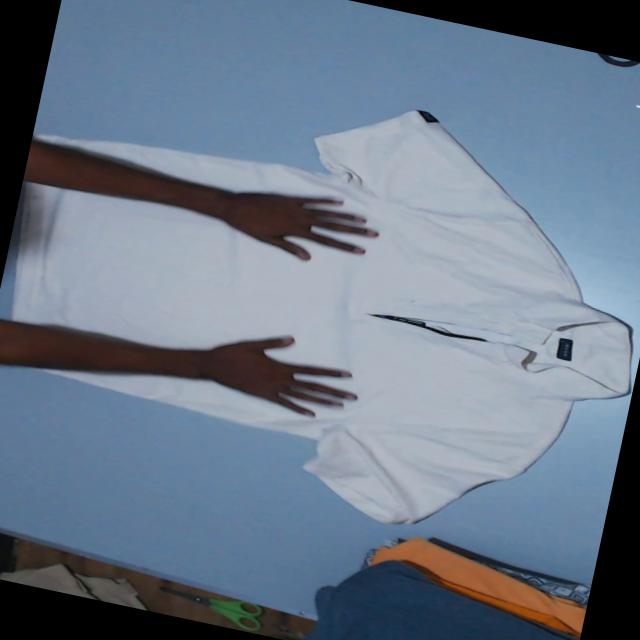new-garment: (13, 110, 630, 522)
